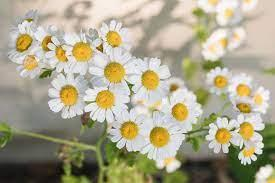chamomile: (132, 58, 174, 104), (81, 89, 125, 122), (53, 79, 90, 111), (121, 113, 149, 152), (99, 56, 133, 88), (144, 118, 171, 156), (64, 39, 95, 71), (165, 97, 193, 127), (10, 29, 36, 59), (208, 124, 238, 149), (208, 72, 233, 96), (101, 27, 127, 50), (235, 116, 256, 140), (232, 79, 258, 98), (38, 28, 55, 55), (243, 140, 261, 164), (48, 42, 68, 63), (235, 101, 258, 115), (257, 89, 269, 109)
